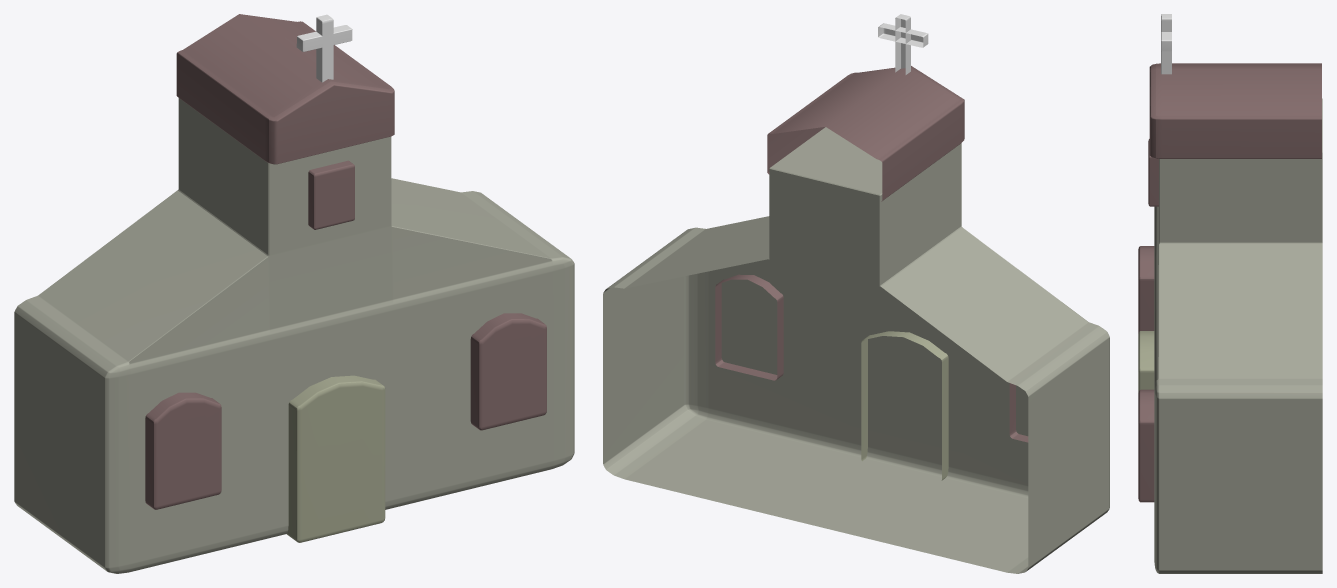
3 views of the same model, side by side, from view 1: azimuth 30°, elevation 25°; view 2: azimuth 150°, elevation 25°; view 3: azimuth 270°, elevation 25° (orthographic). The views are drawn at different scales.
Visible parts, largest first — view 1: pasted__pCube133, pasted__pCube134, pasted__pCube135, polySurface18, pasted__pCube136; view 2: pasted__pCube133, pasted__pCube134, pasted__pCube135, polySurface18, pasted__pCube136; view 3: pasted__pCube133, pasted__pCube134, pasted__pCube135, polySurface18, pasted__pCube136.
Part boxes in pixels (x1,y1,x2,y2): pasted__pCube133: (14,98,574,573); pasted__pCube134: (176,14,394,164); pasted__pCube135: (145,160,546,509); polySurface18: (286,375,385,542); pasted__pCube136: (296,14,352,82); pasted__pCube133: (603,127,1109,573); pasted__pCube134: (767,66,964,201); pasted__pCube135: (715,274,1028,442); polySurface18: (861,331,948,480); pasted__pCube136: (878,14,928,74); pasted__pCube133: (1154,98,1322,573); pasted__pCube134: (1149,63,1321,158); pasted__pCube135: (1138,139,1158,502); polySurface18: (1138,331,1154,392); pasted__pCube136: (1161,14,1171,74).
Size of the model in its own units: 13.77 by 14.13 by 5.16.
